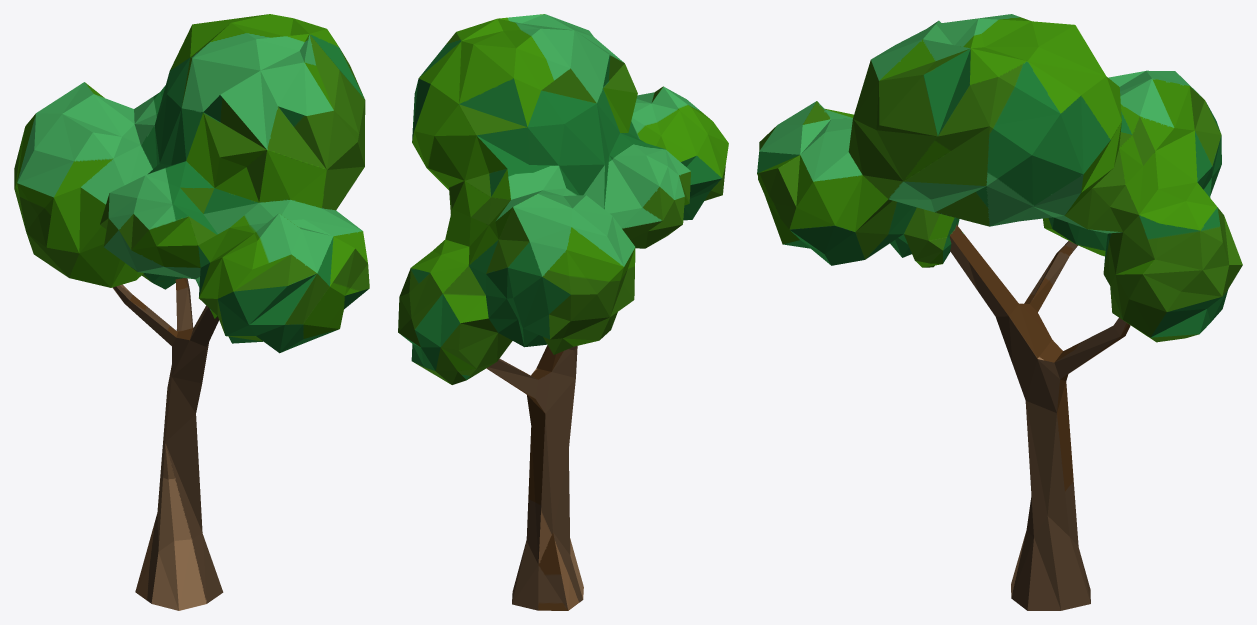
Rendered from arbol3.obj.
3 renders of one model, left to right at view 1: azimuth 30°, elevation 25°; view 2: azimuth 150°, elevation 25°; view 3: azimuth 270°, elevation 25°, orthographic. The views are drawn at different scales.
Parts seen in each view (by area): view 1: _3_tree_Sphere.007; view 2: _3_tree_Sphere.007; view 3: _3_tree_Sphere.007.
Part boxes in pixels (x1,y1,x2,y2): _3_tree_Sphere.007: (14, 14, 369, 610); _3_tree_Sphere.007: (398, 14, 728, 610); _3_tree_Sphere.007: (757, 14, 1242, 610).
Size of the model in its own units: 0.7953 by 1.58 by 1.17.
Materials: 1 (1 with a texture image).
